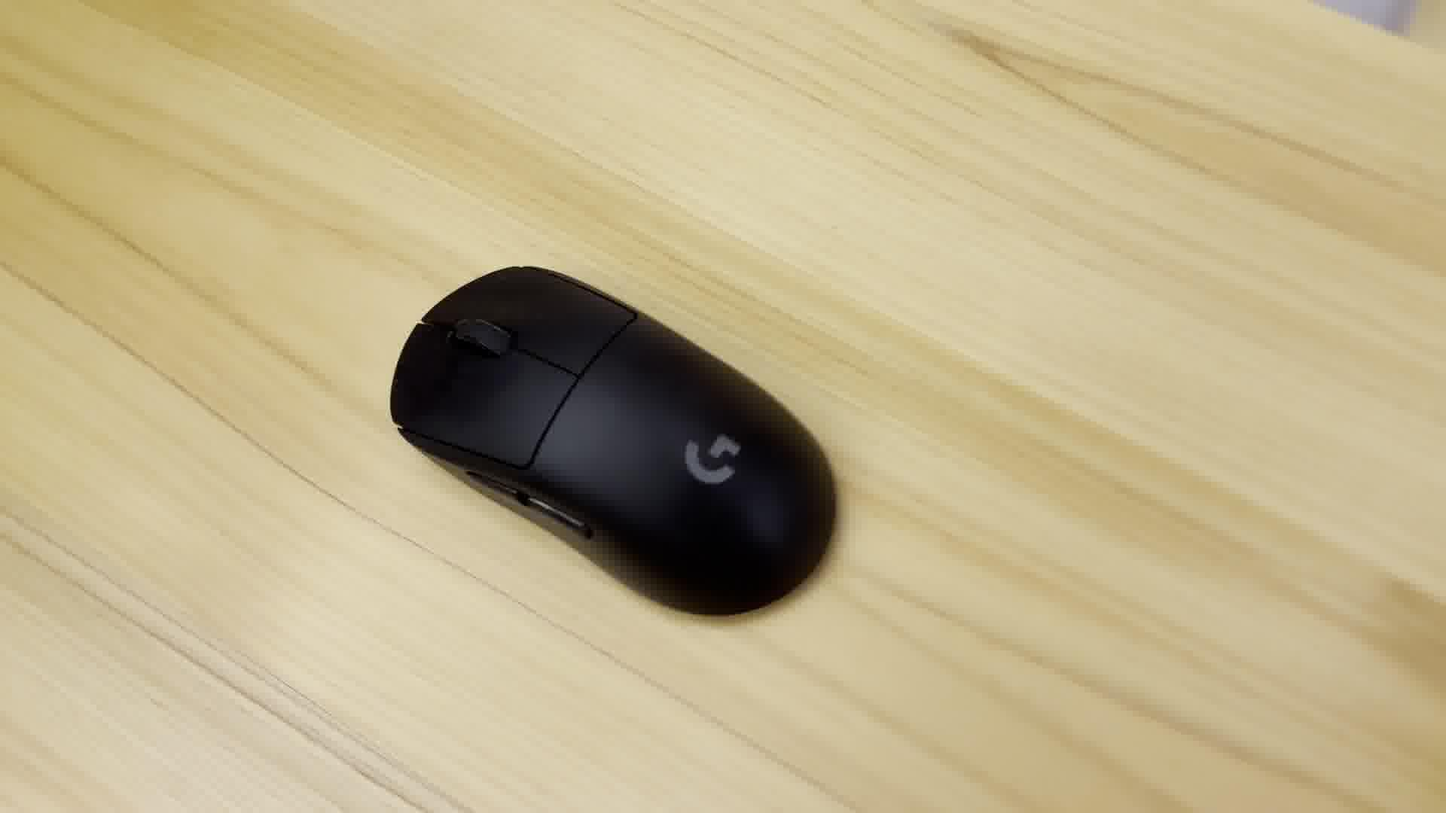mouse: (382, 256, 846, 635)
